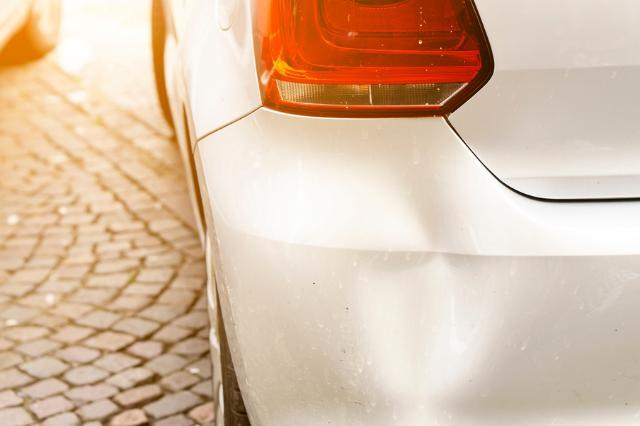Bumper: (322, 164, 509, 389)
